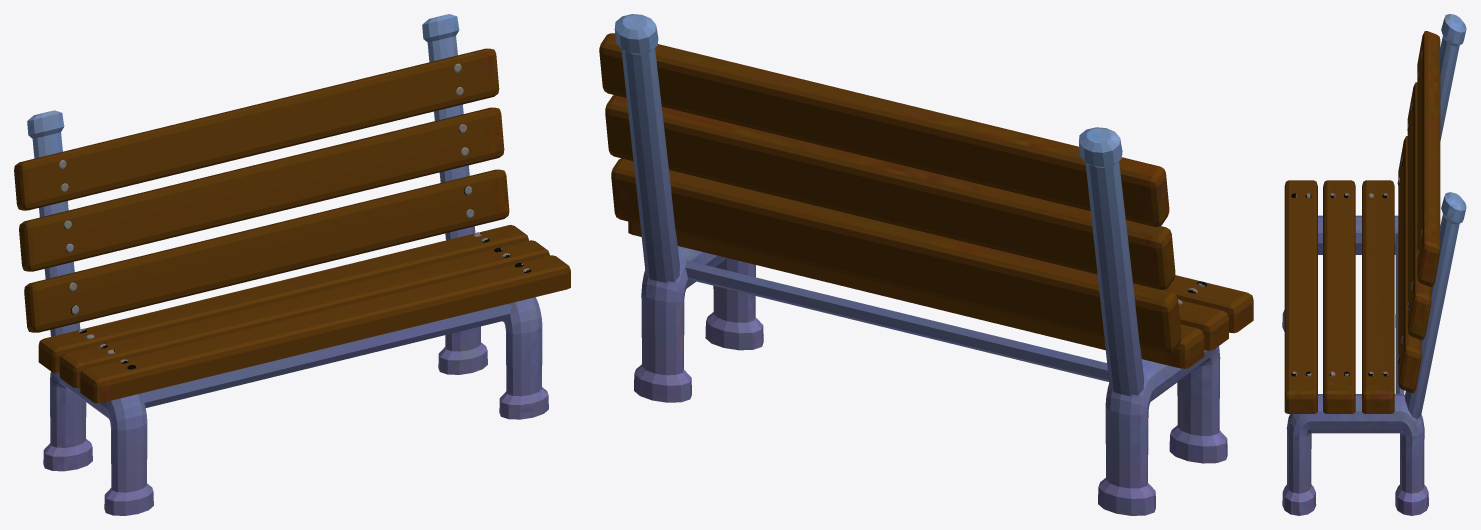
File: bench_path.glb
3 views of the same model, side by side, from view 1: azimuth 30°, elevation 25°; view 2: azimuth 150°, elevation 25°; view 3: azimuth 270°, elevation 25° (orthographic). The views are drawn at different scales.
Parts seen in each view (by area): view 1: bench_path; view 2: bench_path; view 3: bench_path.
Boxes of the visible parts, bbox=[...] form: bench_path: bbox=[14, 14, 570, 515]; bench_path: bbox=[599, 14, 1253, 515]; bench_path: bbox=[1282, 14, 1466, 515].
Bounding box in the file's own units: 1.77 × 1.19 × 0.64.
1 material, 1 textured.
